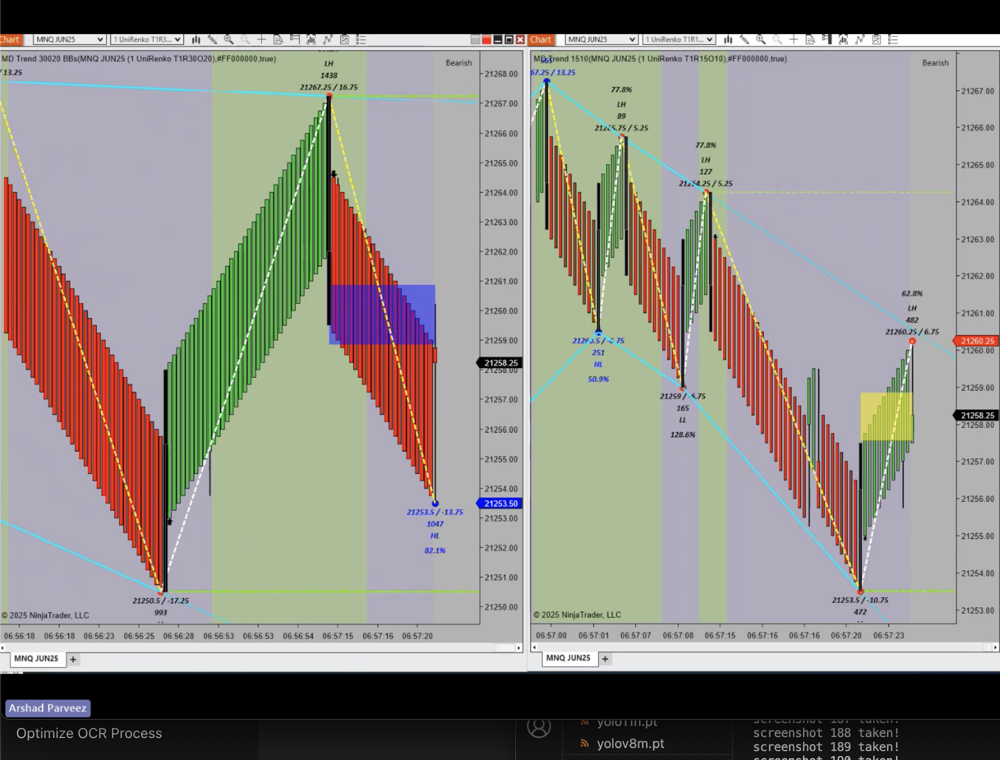HL: (588, 351, 610, 375), (423, 525, 448, 546)
LH: (316, 56, 347, 73), (902, 299, 923, 319), (610, 96, 636, 112), (695, 155, 720, 167)
LL: (670, 411, 695, 429)
